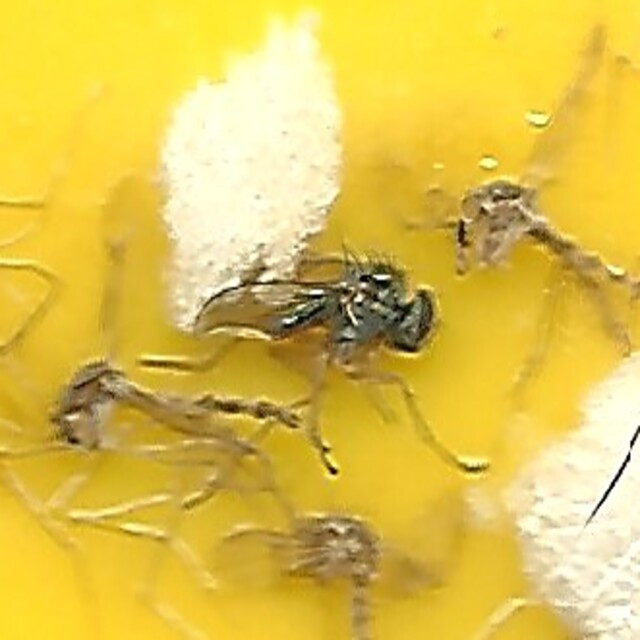Brachycera: (193, 243, 447, 397)
